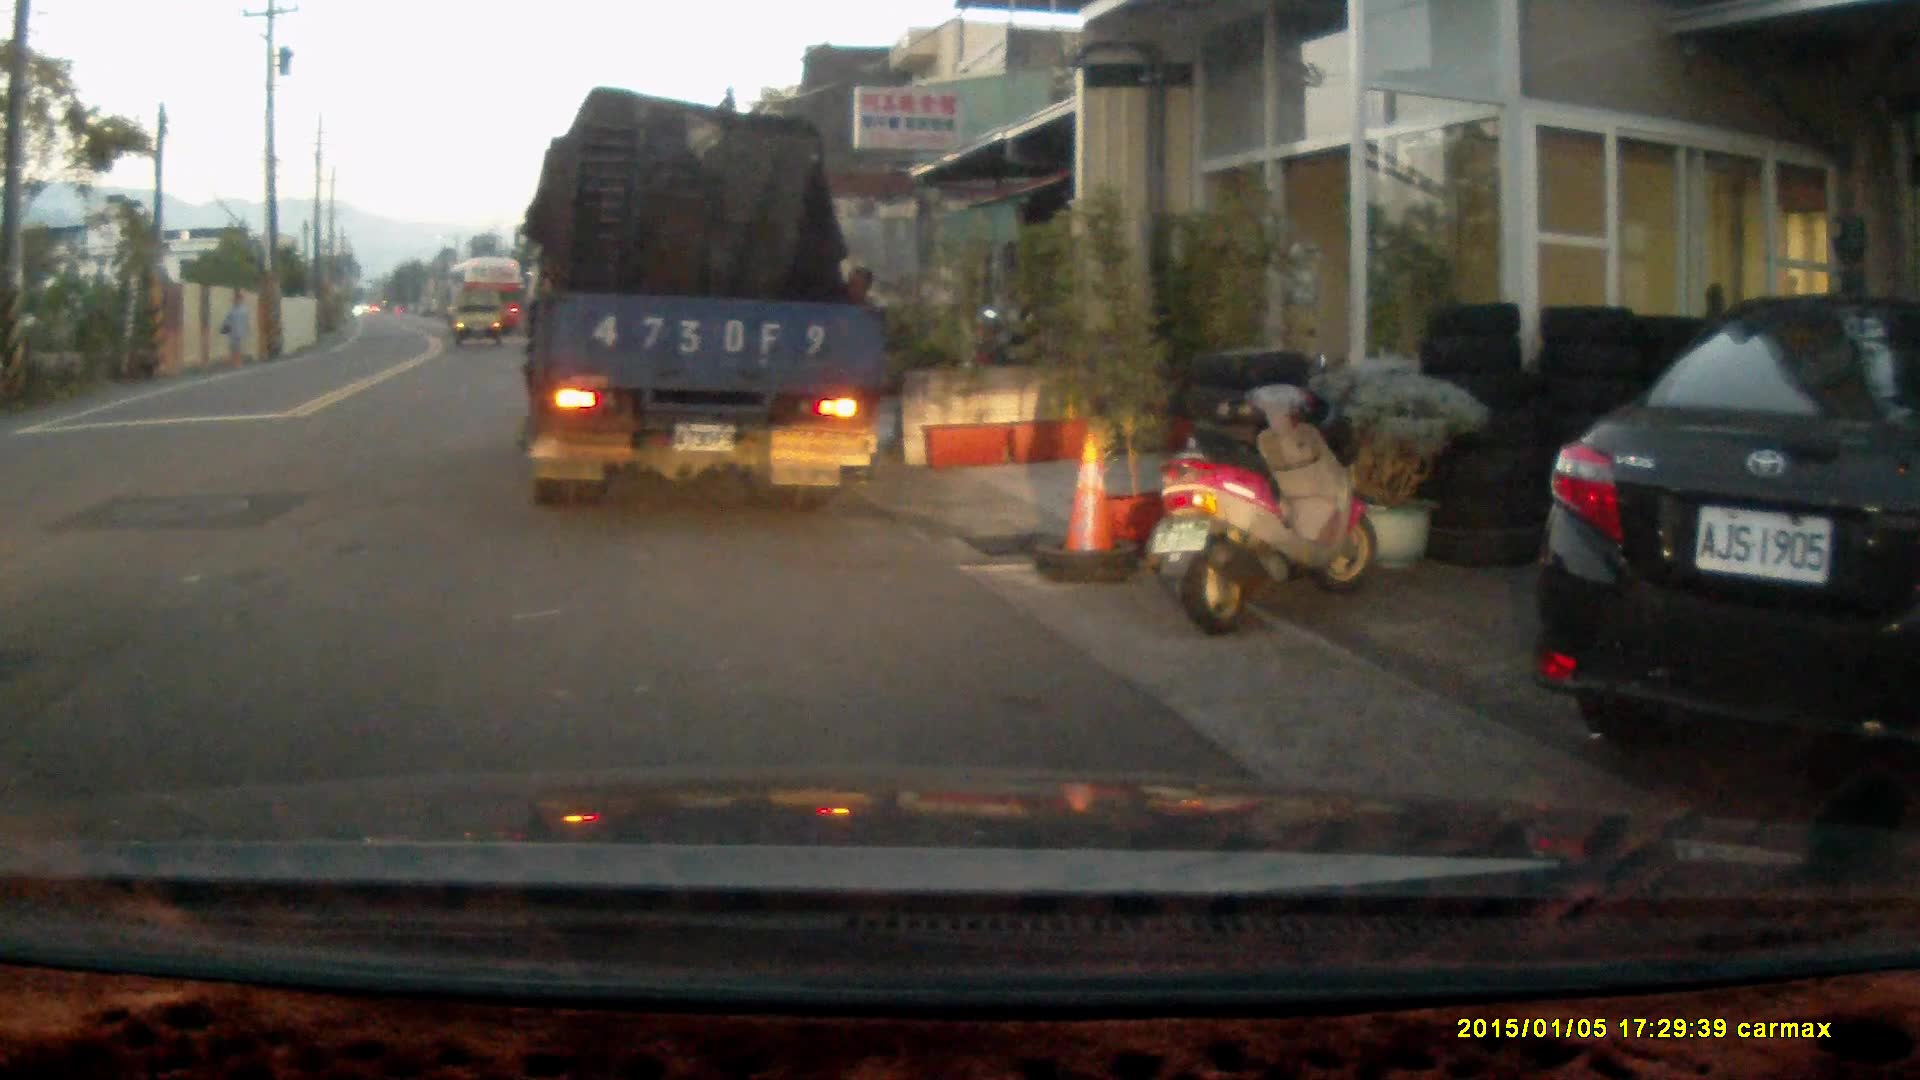pedestrian: (217, 290, 248, 364)
vehicle: (1546, 288, 1919, 771), (508, 96, 876, 504), (447, 254, 529, 338), (452, 289, 505, 350)
